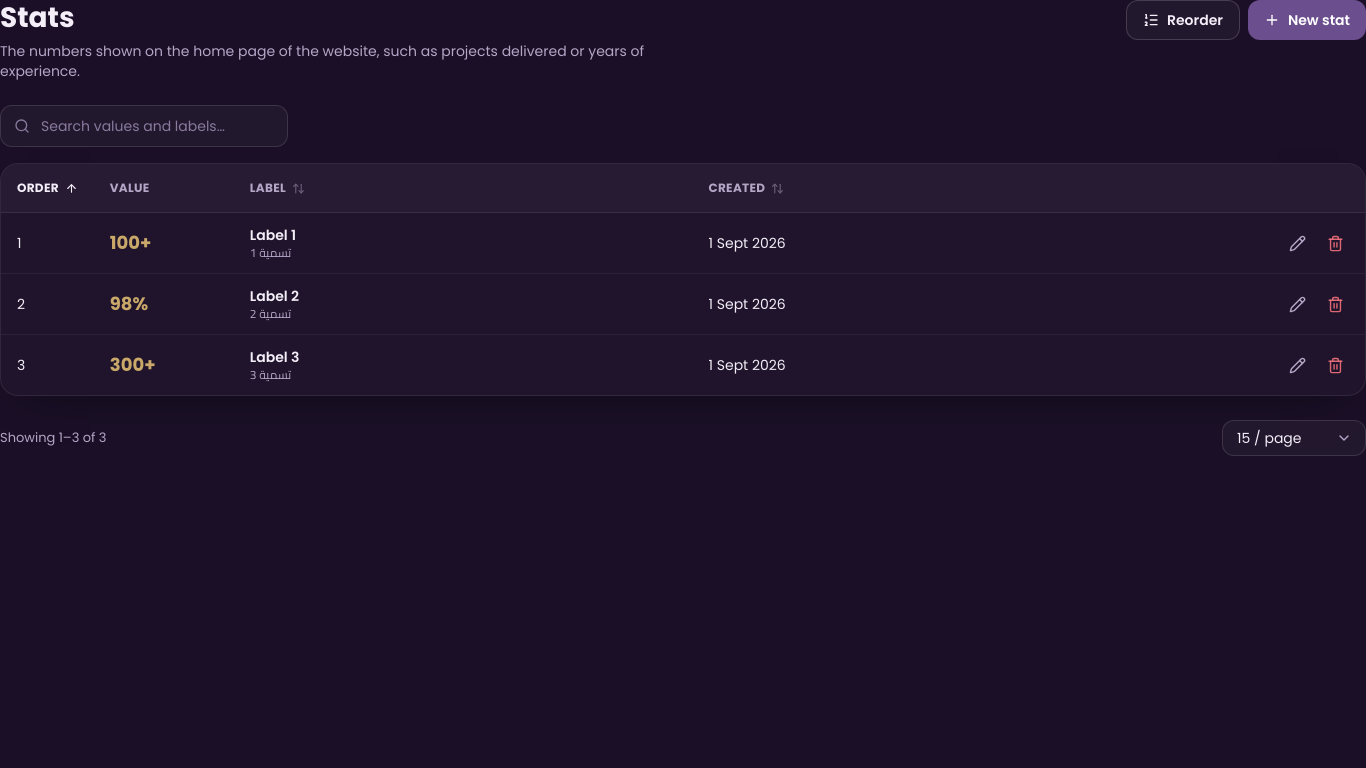
Test: StatList › delete › asks first, then deletes and refreshes the list
Expected: the text "Label 2" is shown, x1=250 y1=286 x2=299 y2=306
Click the button named "Delete" in the row of "98%": click(1335, 304) x1=1317 y1=286 x2=1353 y2=322
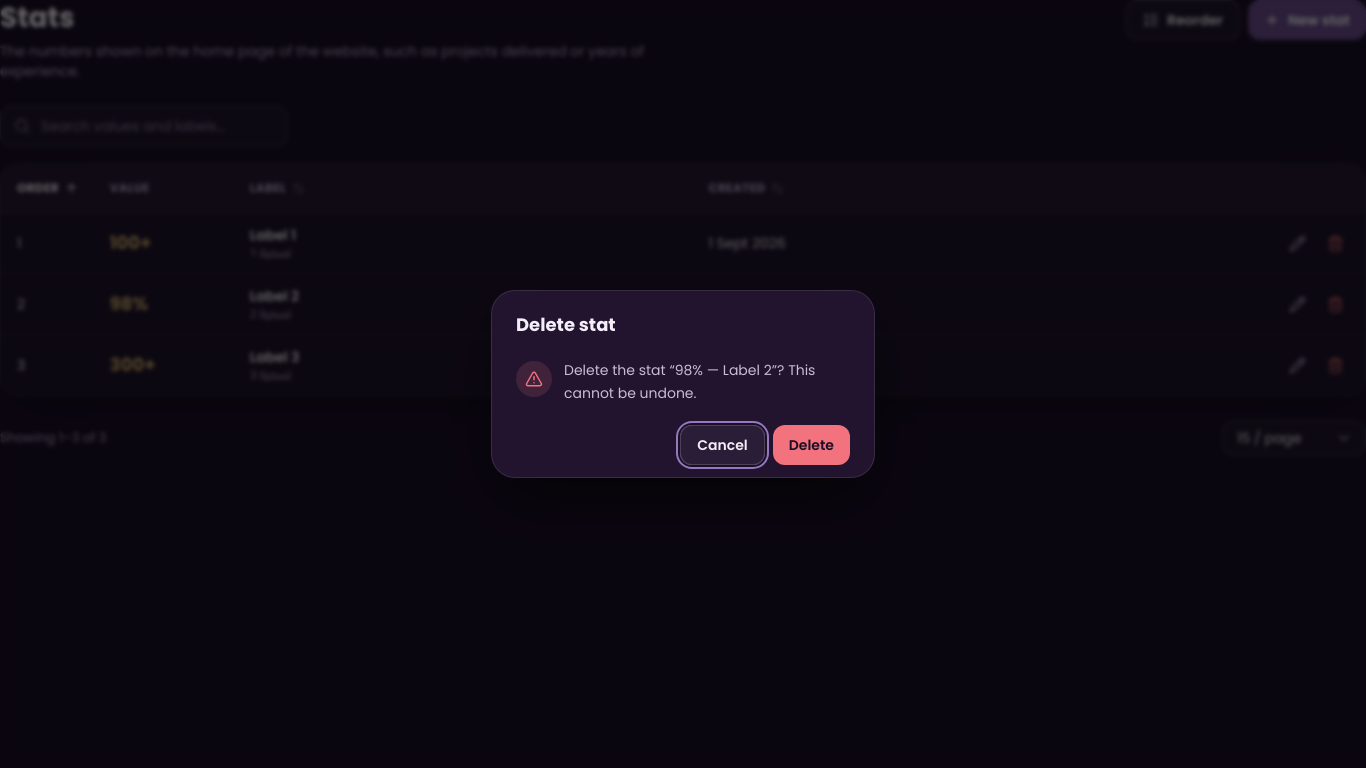
Expected: the dialog "Delete stat" shows "Delete the stat “98% — Label 2”? This cannot be undone.", x1=564 y1=360 x2=815 y2=403
Click the button "Delete": click(811, 445) x1=773 y1=425 x2=850 y2=465
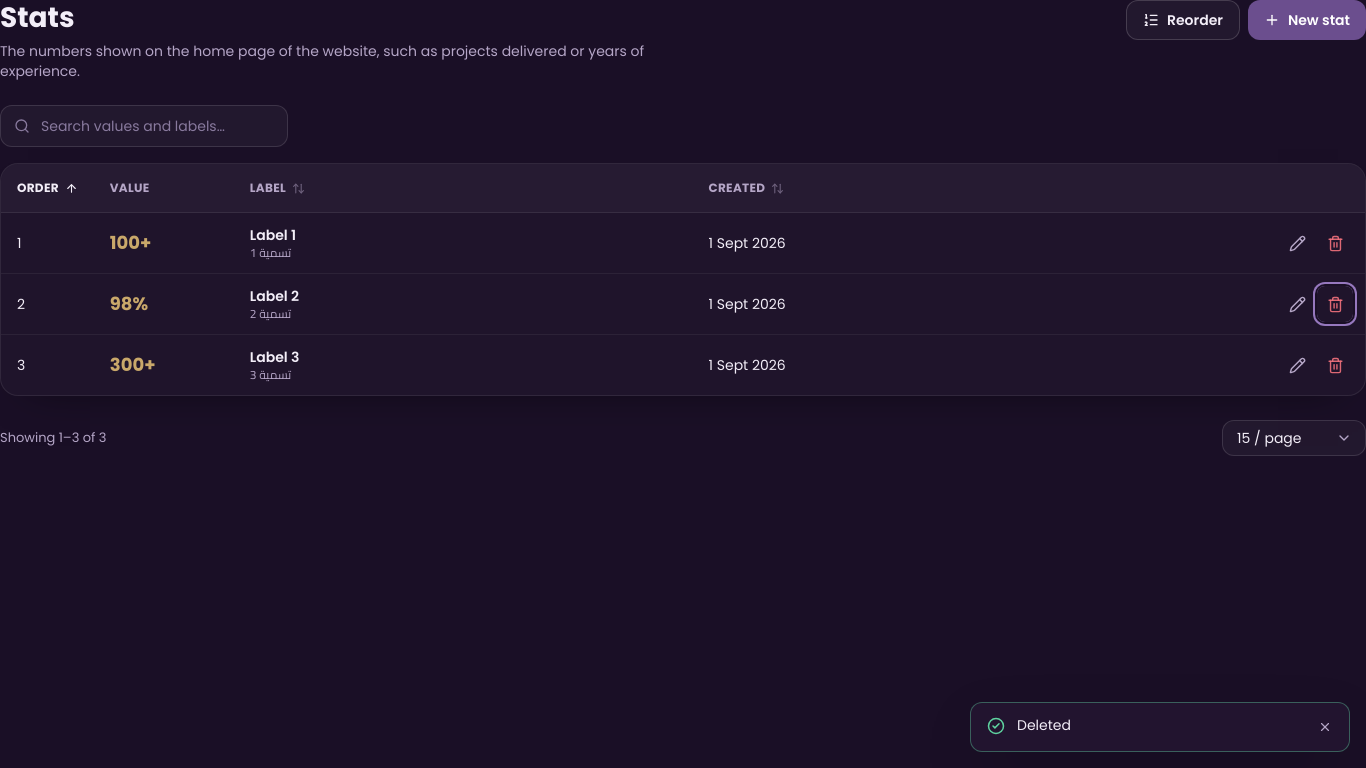
Expected: the text "Deleted" is shown, x1=1017 y1=715 x2=1071 y2=735
